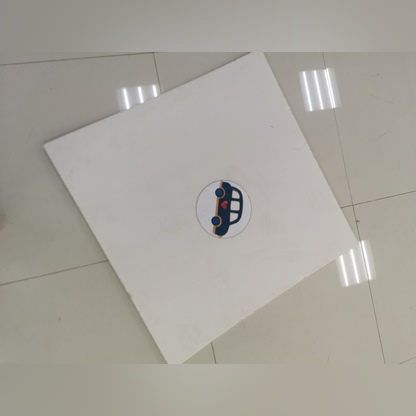car: (195, 171, 248, 242)
